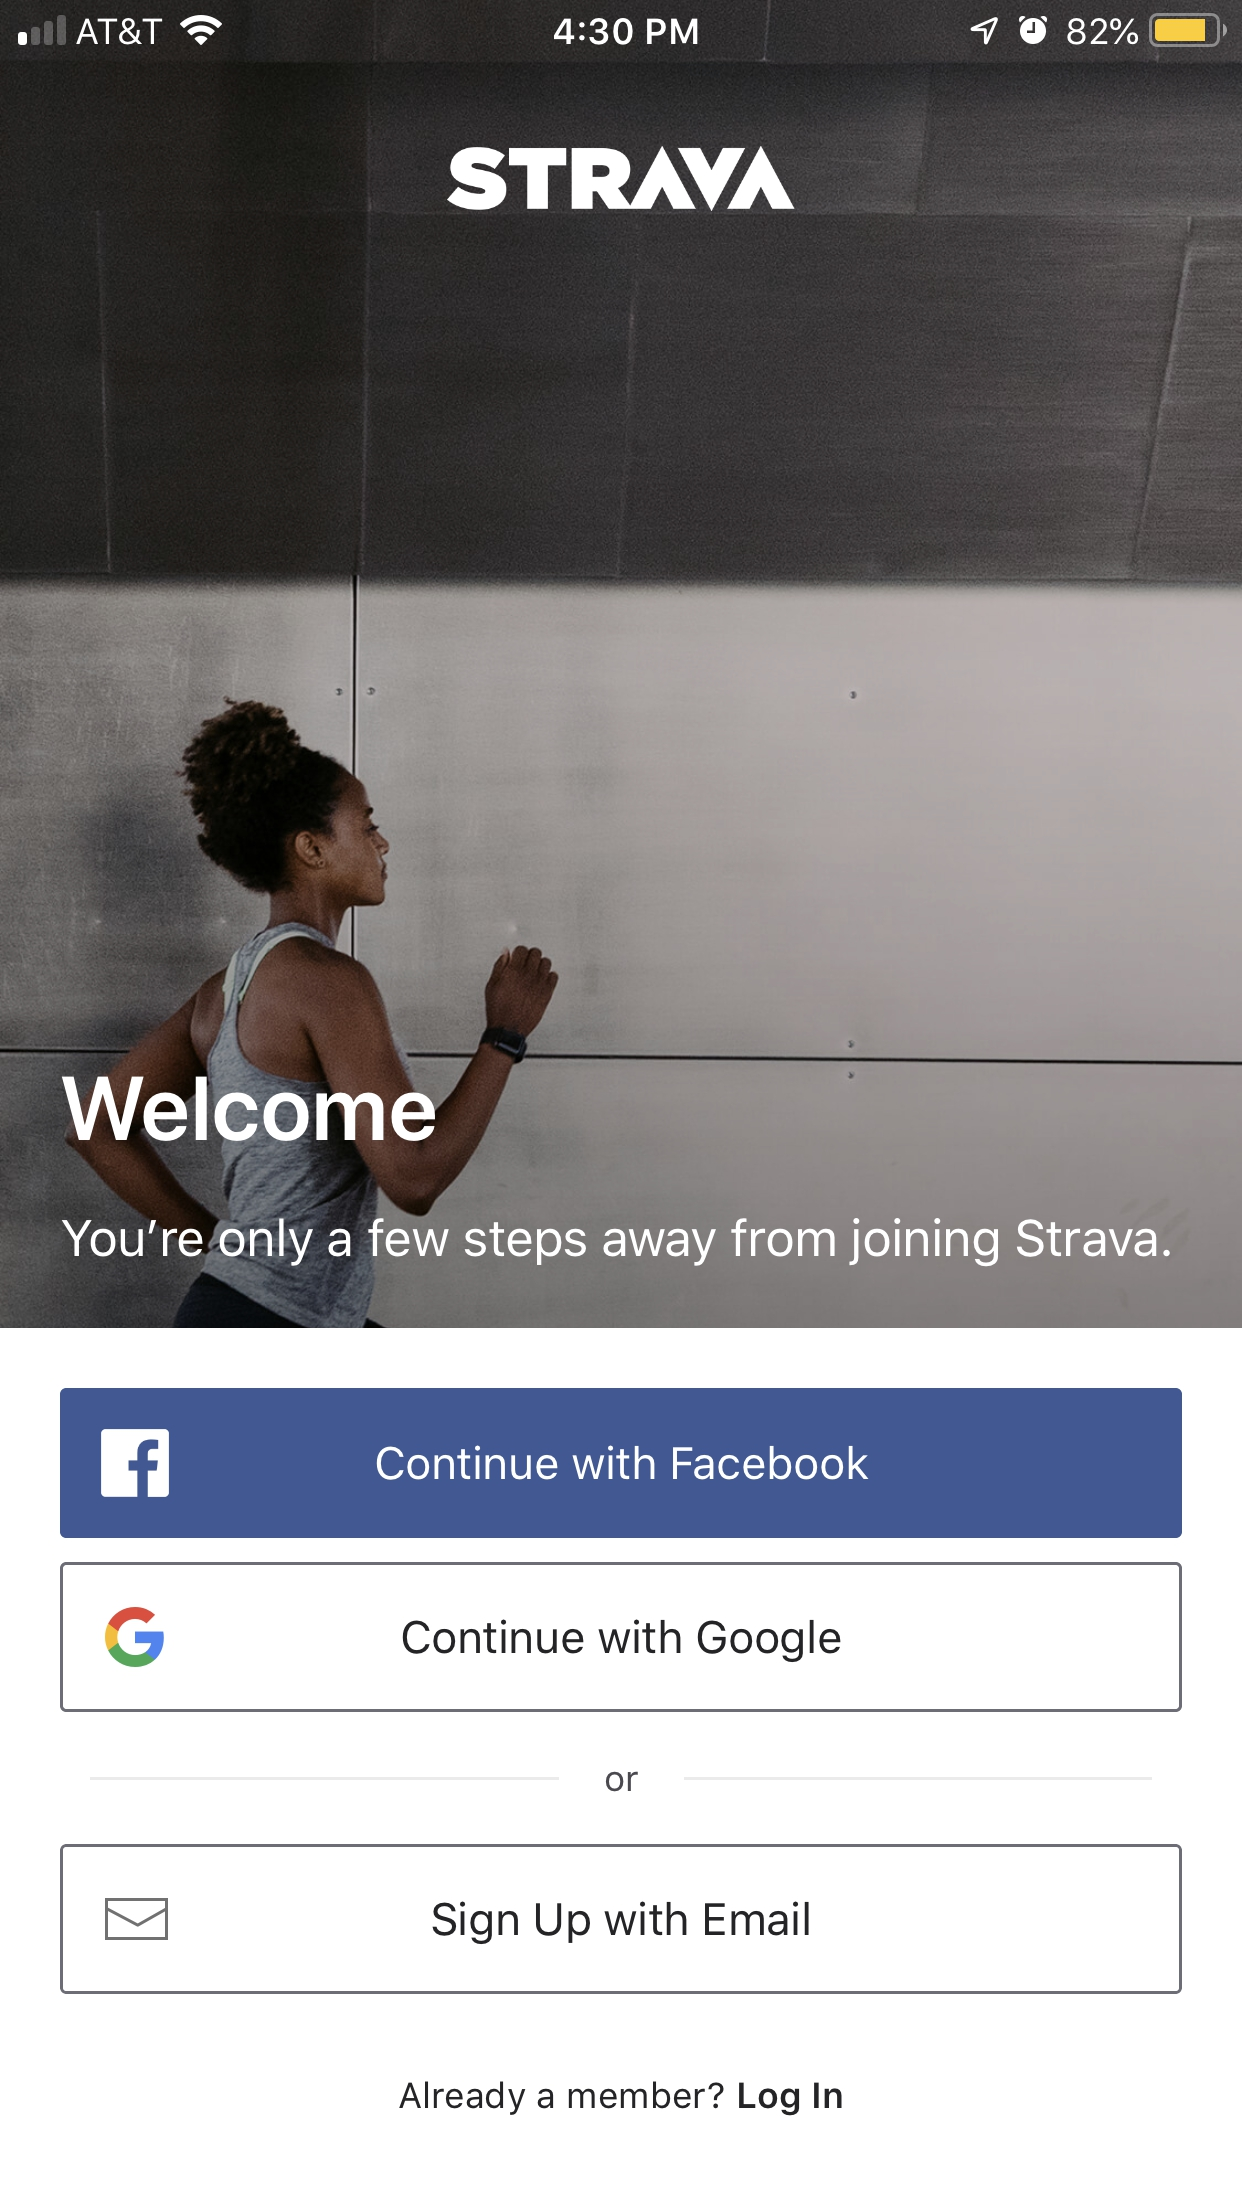Image: (2, 2, 1240, 1328), (447, 147, 796, 211)
Text: (61, 1218, 1171, 1268), (61, 1077, 437, 1143), (399, 2081, 843, 2117), (607, 1771, 638, 1792)
TextButton: (61, 1844, 1183, 1996), (61, 1562, 1183, 1714), (61, 1388, 1183, 1539)
UpperTaskBar: (2, 2, 1242, 49)
